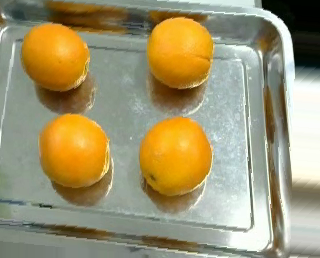Orange: (138, 115, 214, 196), (38, 111, 110, 187), (19, 20, 90, 90), (146, 16, 215, 87)
